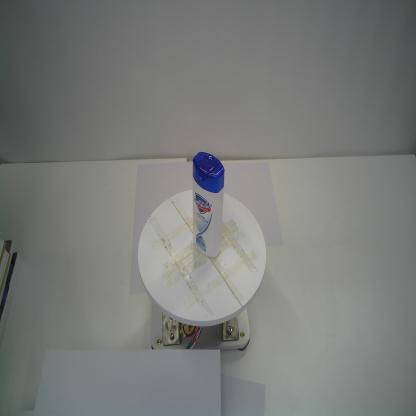Personal Hygiene: (190, 150, 226, 260)
